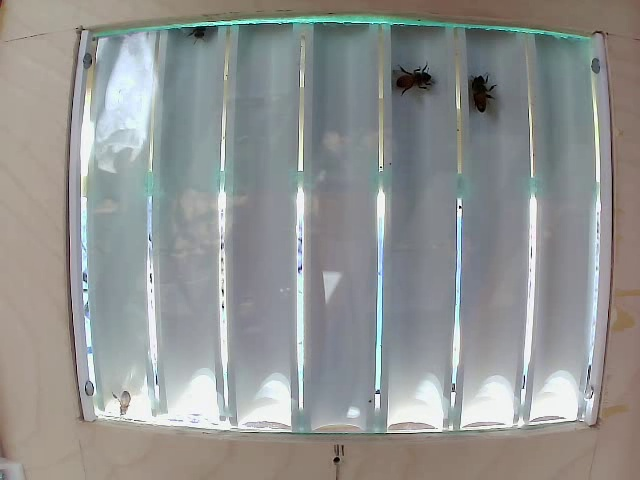bee: (387, 68, 439, 117), (462, 67, 493, 115)
